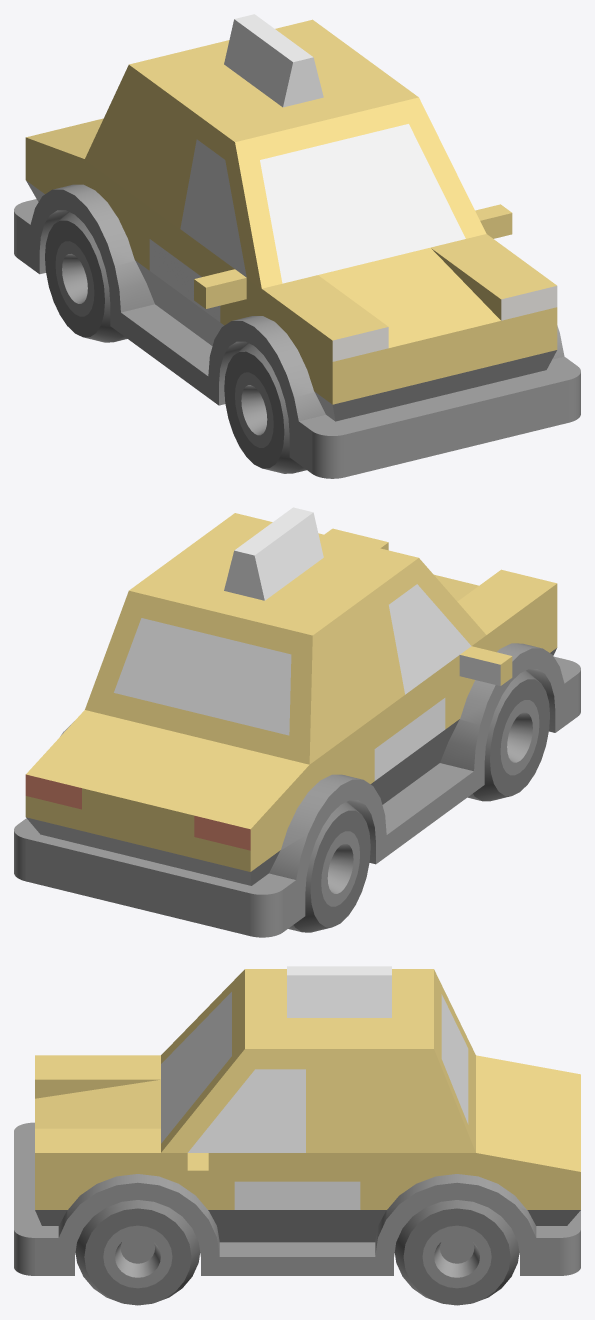
Rendered from taxi.gltf.
3 renders of one model, top to bottom at view 1: azimuth 30°, elevation 25°; view 2: azimuth 150°, elevation 25°; view 3: azimuth 270°, elevation 25°, orthographic. The views are drawn at different scales.
Parts seen in each view (by area): view 1: taxi; view 2: taxi; view 3: taxi.
Part boxes in pixels (x1,y1,x2,y2): taxi: [14, 14, 580, 478]; taxi: [14, 507, 580, 937]; taxi: [14, 966, 580, 1305].
Bounding box in the file's own units: 1.12 × 1.13 × 2.03.
